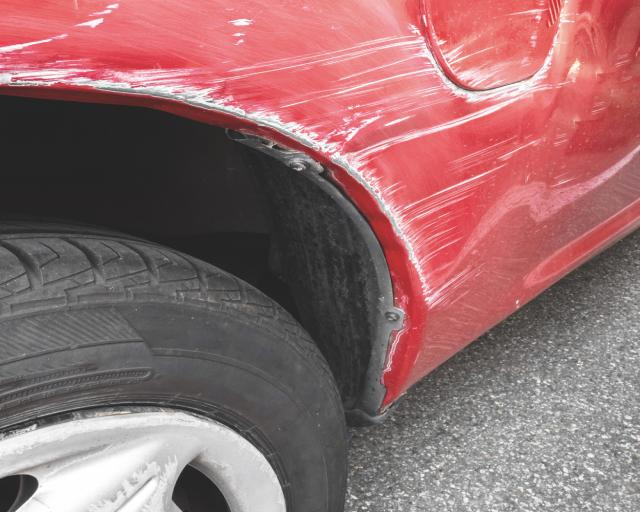scratch: (0, 0, 640, 318)
